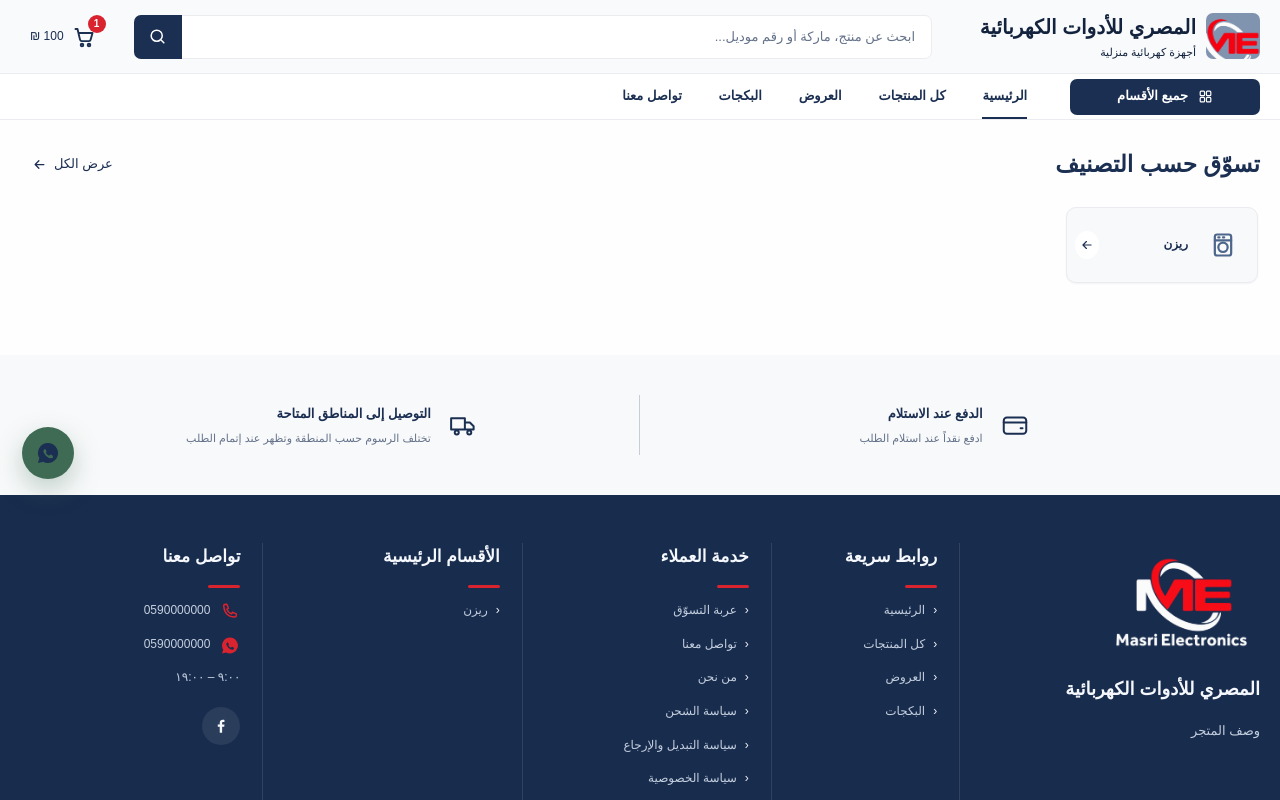
Test case: drawers › edits and removes a line from the drawer
Click the button named "عربة التسوّق".
click(63, 36)  # box [20,14,106,58]
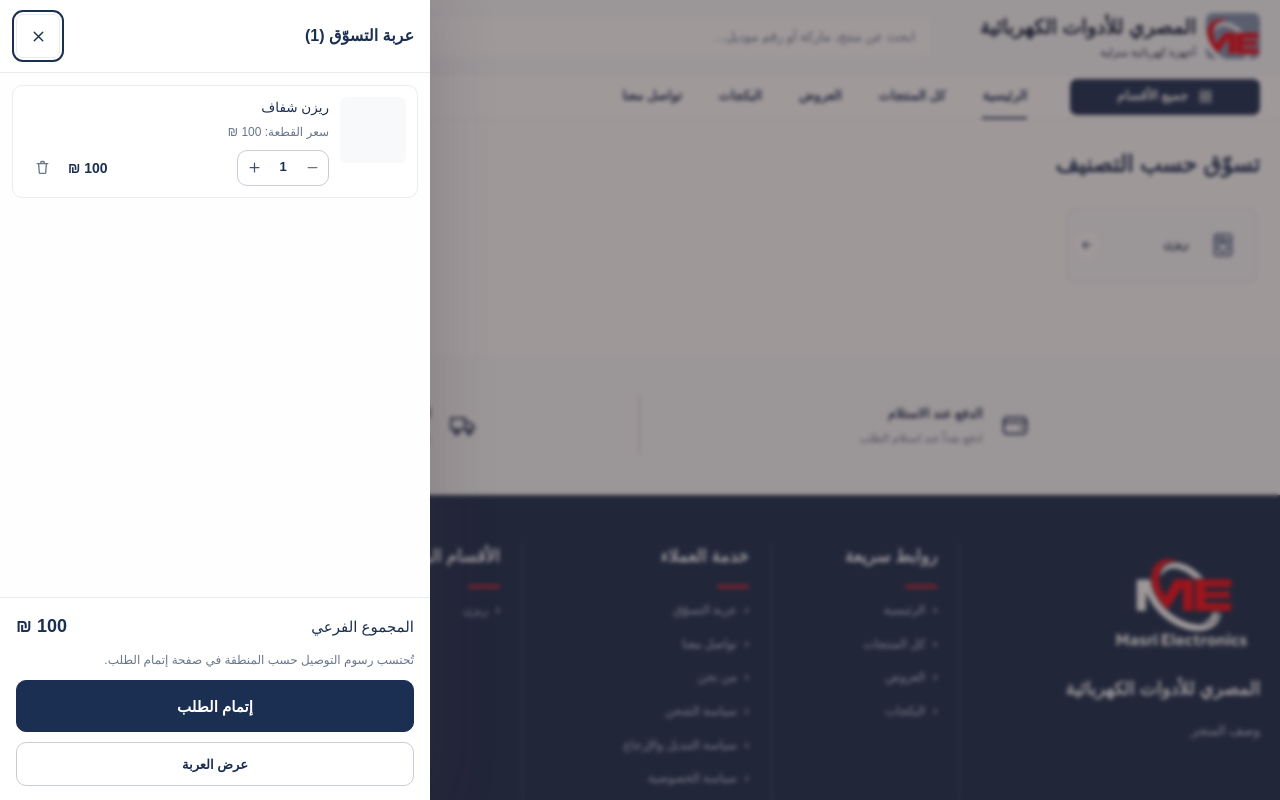
Click the button named "زيادة الكمية".
click(254, 168)  # box [238,151,270,185]
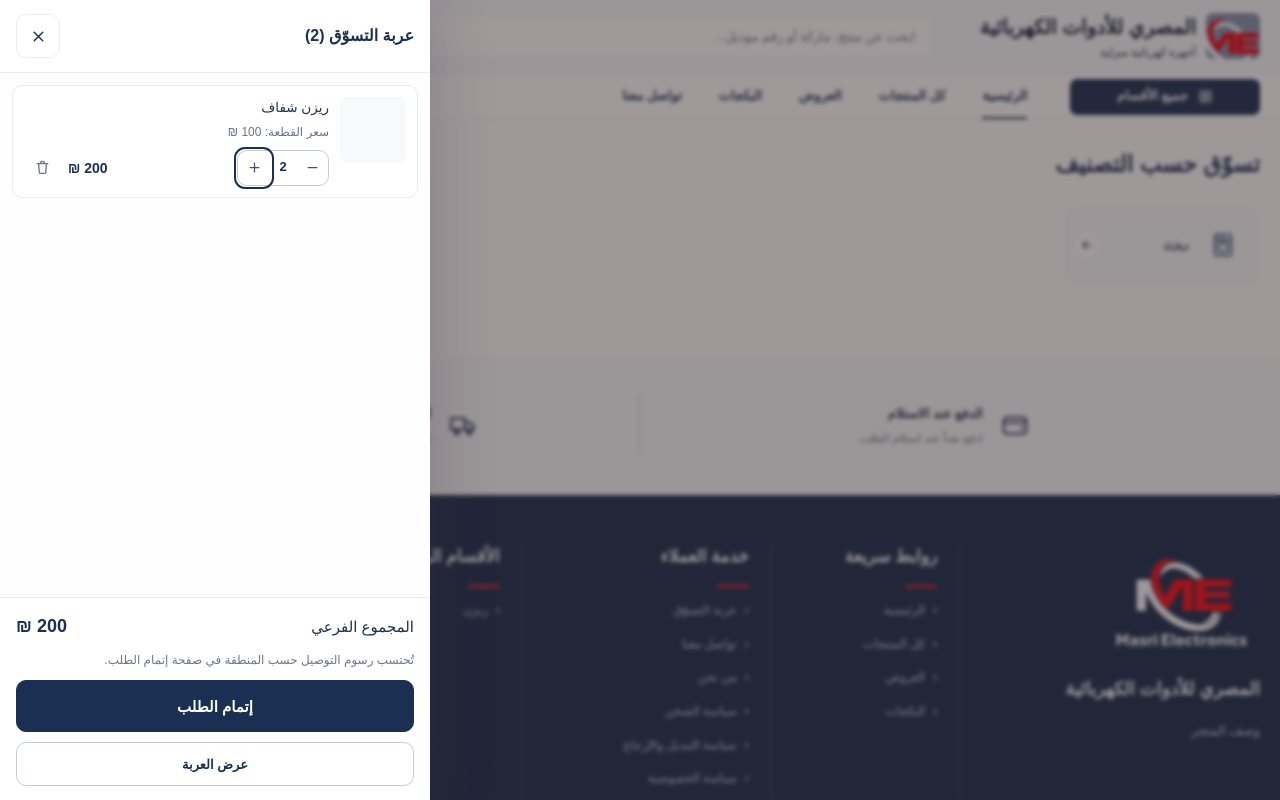
Expected: the text "200 ₪" below "سعر القطعة:" is shown, [68,160,108,176]
Click the button named "إزالة ريزن شفاف".
click(42, 168)  # box [24,150,60,186]
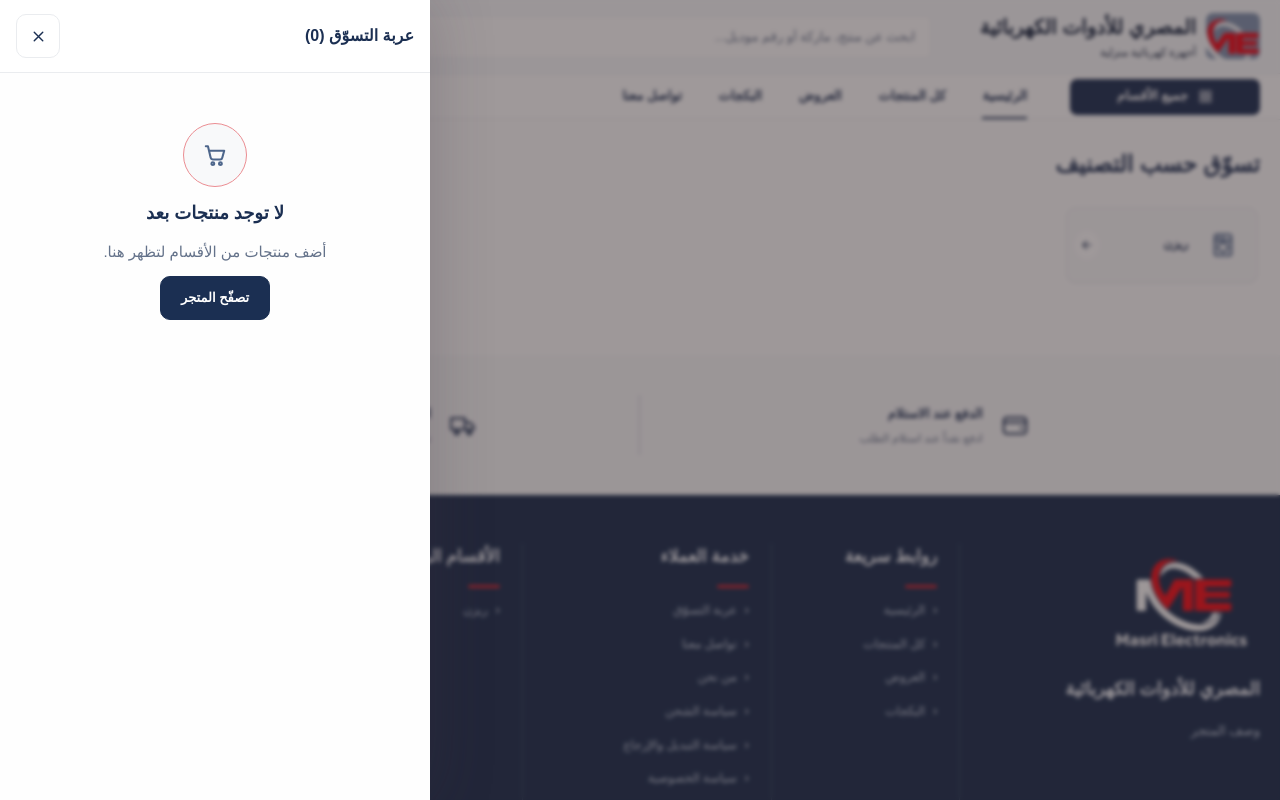
Expected: the text "لا توجد منتجات بعد" is shown, [146,199,284,228]
